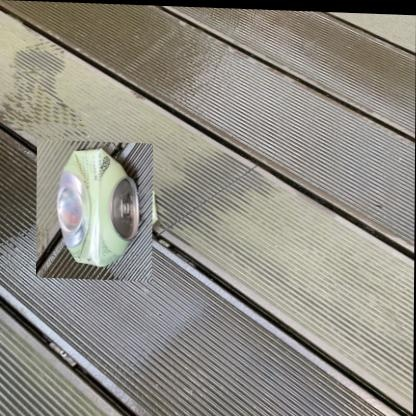trash: (57, 149, 138, 266)
